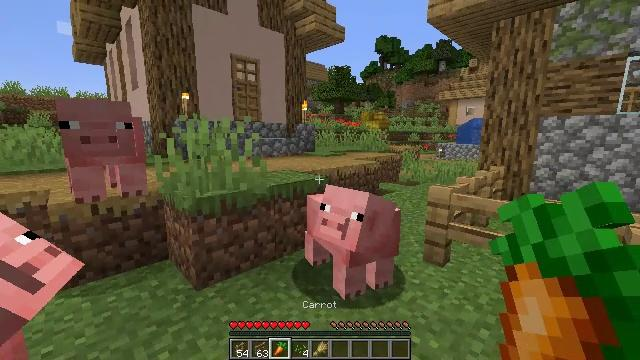pig: (0, 211, 84, 338), (308, 184, 400, 295), (57, 100, 148, 196)
